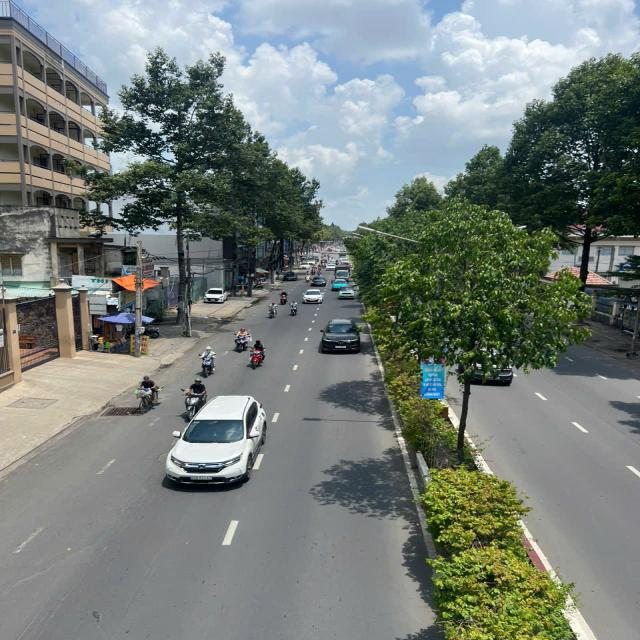Bicycle: (139, 374, 161, 414)
Truck: (336, 266, 350, 280)
car: (163, 392, 269, 494), (320, 315, 362, 356), (304, 289, 322, 308), (337, 287, 355, 301), (333, 279, 347, 289), (284, 272, 298, 282), (313, 276, 326, 286), (299, 262, 309, 270), (340, 259, 352, 265), (310, 256, 319, 262), (327, 264, 335, 270), (308, 259, 316, 265), (339, 256, 347, 259)
motobyte: (184, 378, 204, 418), (200, 346, 216, 376), (252, 339, 266, 370), (234, 328, 248, 353), (268, 302, 277, 319), (280, 290, 288, 306), (290, 300, 299, 314), (304, 274, 310, 282), (312, 266, 316, 274), (318, 270, 322, 276), (317, 266, 323, 270)
